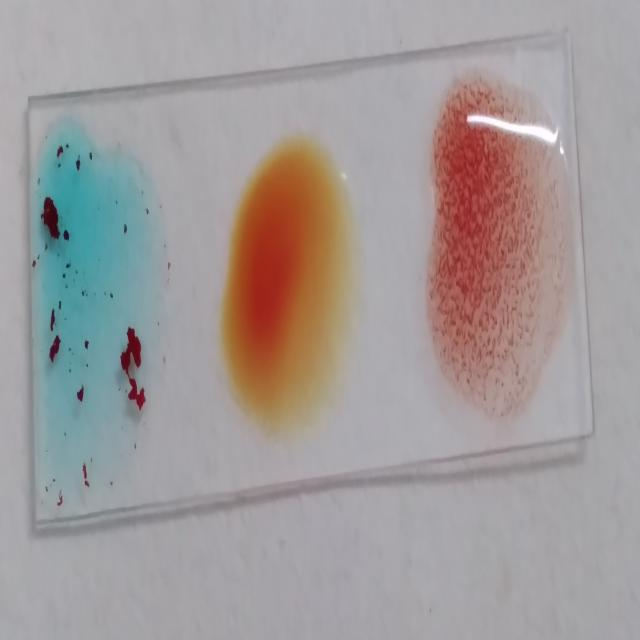A: (33, 127, 156, 479)
D: (429, 76, 565, 408)
